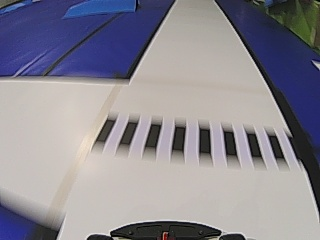CrossWalk: (89, 106, 307, 169)
